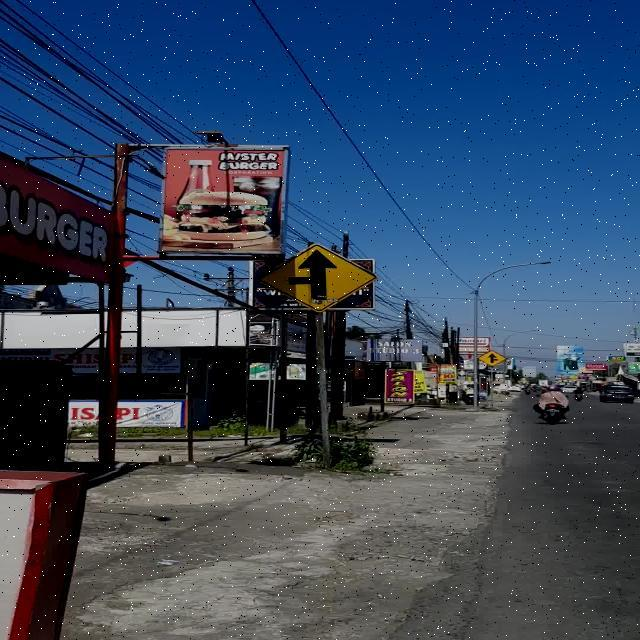Persimpangan 3 Prioritas Kiri: (256, 243, 378, 313)
